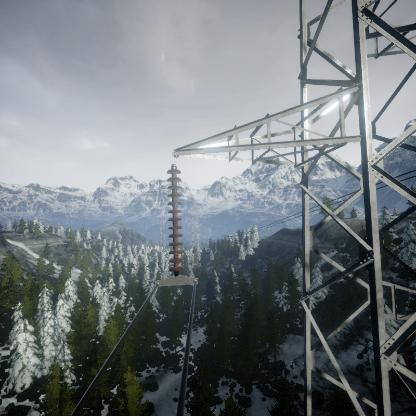insulator: (165, 163, 186, 276)
